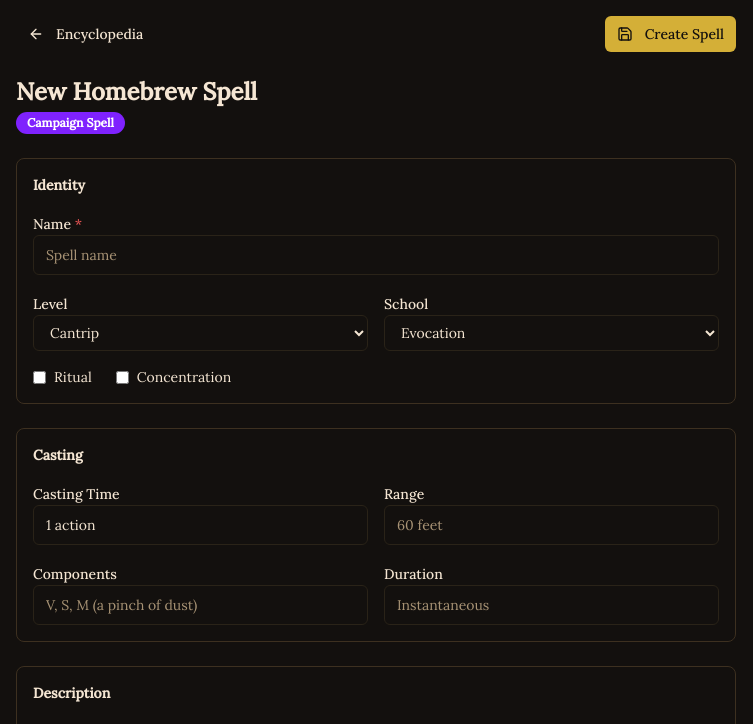
SpellEditPage — new spell › shows error message when createSpell fails
This screenshot has width=753, height=724.
Step 1. Type "Bad Spell" into the field with test id "spell-name-input" → coordinates (376, 255), box x1=33 y1=235 x2=719 y2=275
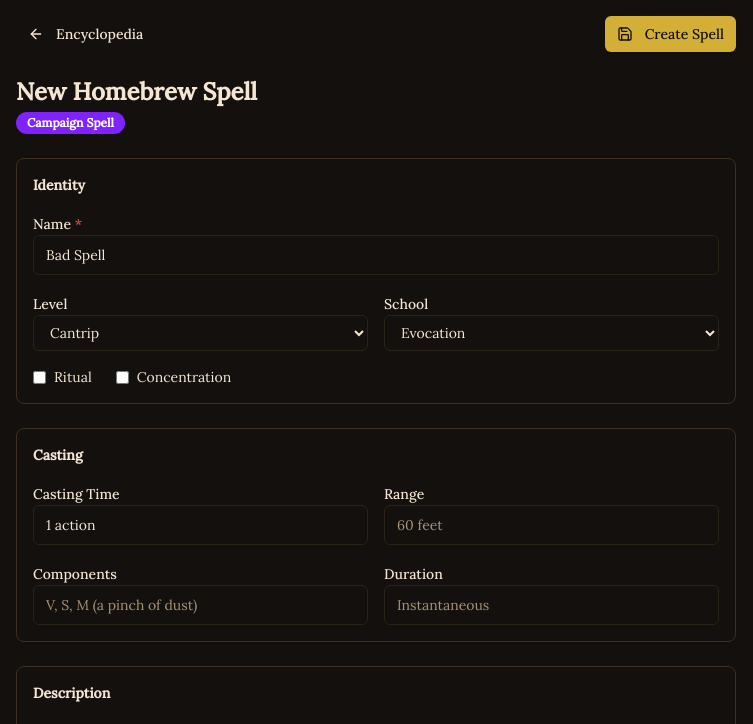
Step 2. Click the button with test id "save-spell-btn" → coordinates (670, 34), box x1=605 y1=16 x2=736 y2=52
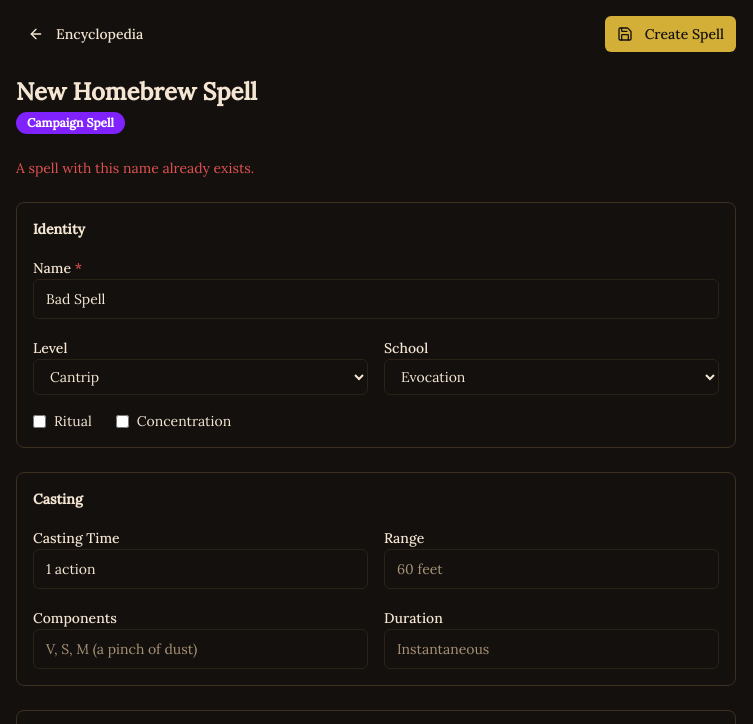
Check: the text "A spell with this name already exists." is shown, box x1=16 y1=159 x2=254 y2=177
